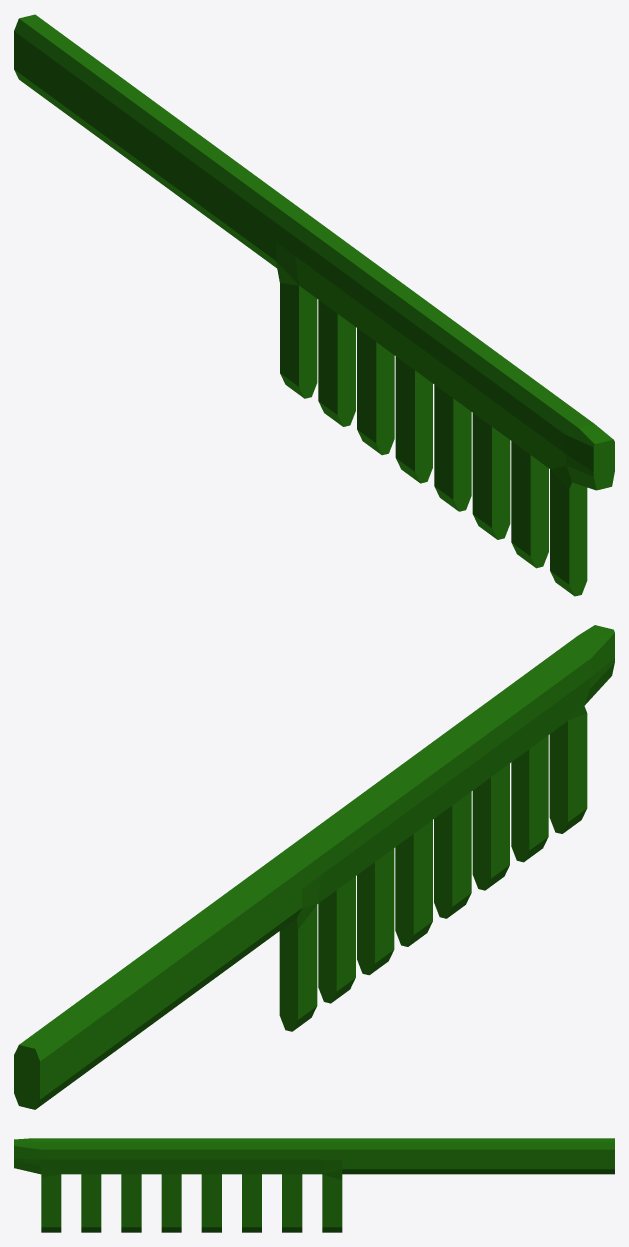
The model's file is Comb.fbx.
The picture shows the model from 3 angles, top to bottom: view 1: azimuth 30°, elevation 25°; view 2: azimuth 150°, elevation 25°; view 3: azimuth 270°, elevation 25°; orthographic projection. The views are drawn at different scales.
Parts seen in each view (by area): view 1: Cube; view 2: Cube; view 3: Cube.
Part boxes in pixels (bbox=[...]): Cube: bbox=[14, 14, 614, 596]; Cube: bbox=[14, 625, 614, 1109]; Cube: bbox=[14, 1138, 614, 1232].
Bounding box in the file's own units: 8.32 × 53.46 × 318.
